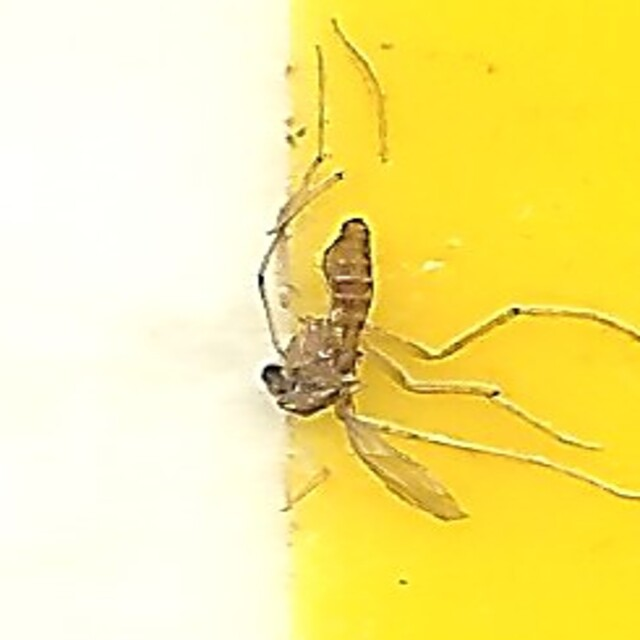Nematocera: (261, 214, 379, 426)
